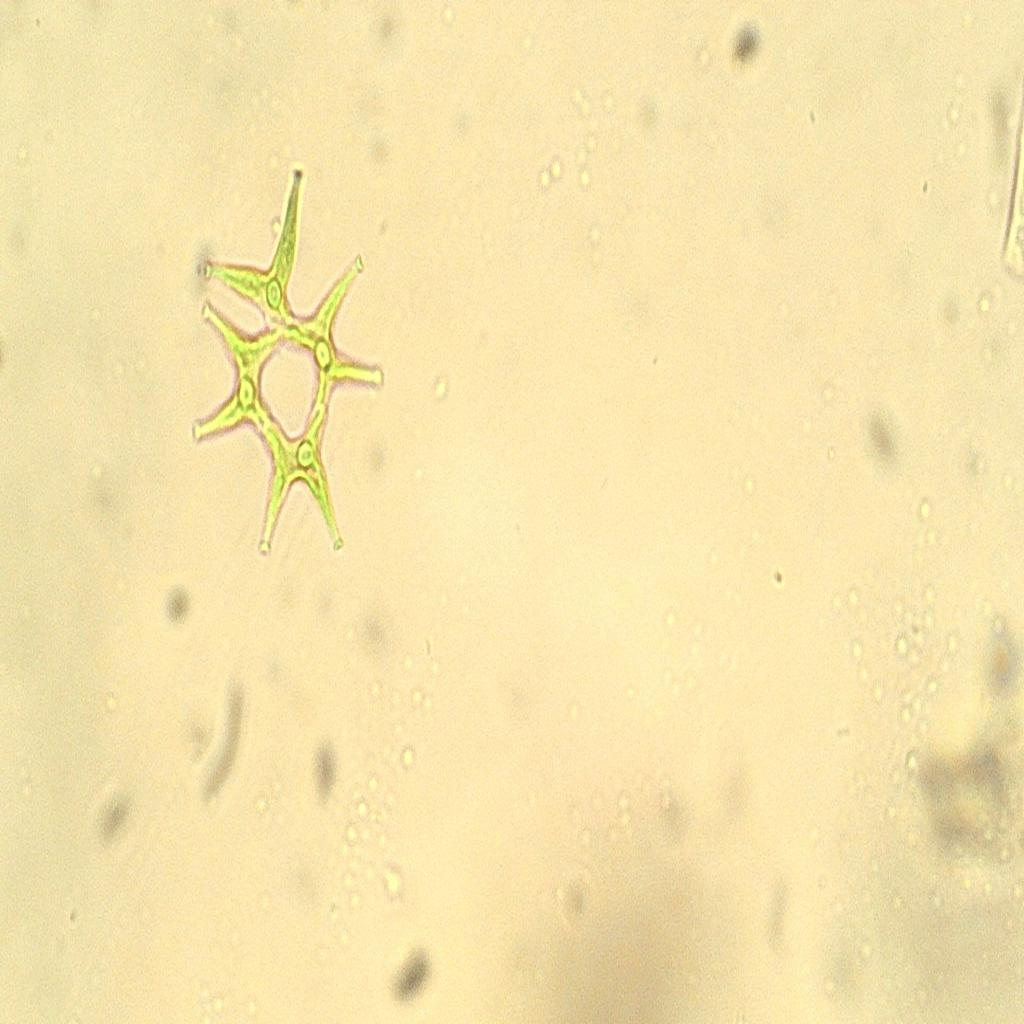Pediastrum_CT: (185, 149, 389, 562)
